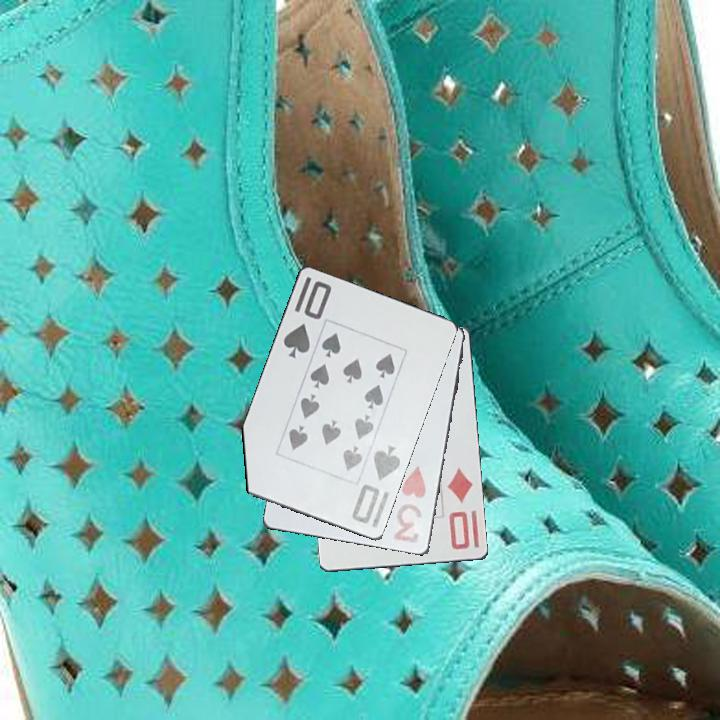3h: (390, 463, 429, 546)
Td: (444, 465, 476, 553)
Ts: (280, 273, 335, 362), (349, 443, 404, 527)
